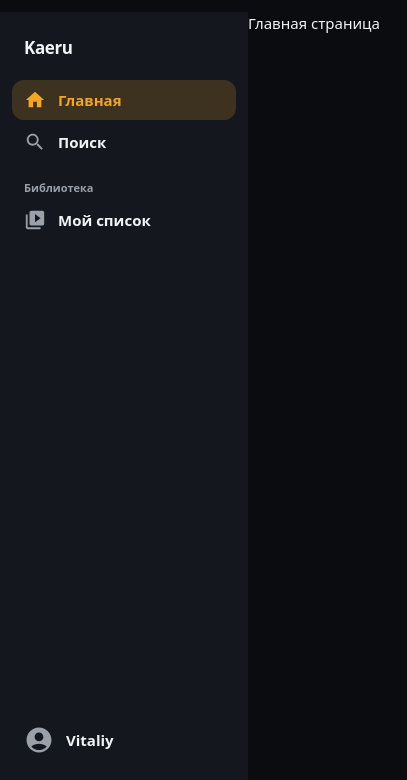
Test: Layout › opens settings from the account row, labelled for screen readers
Expected: the text "Vitaliy" is shown, [66,730,114,750]
Click the link with aria-label "Аккаунт и настройки" at point(69, 740), box [24,725,114,755]
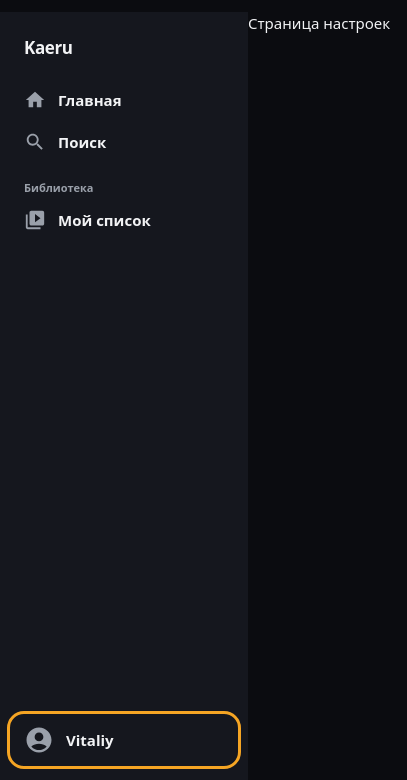
Now the text "Страница настроек" is shown, box [248,13,390,33]
